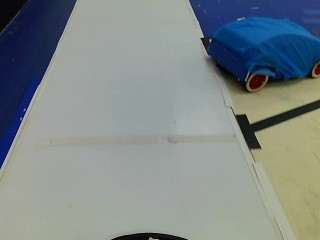car: (205, 15, 320, 90)
